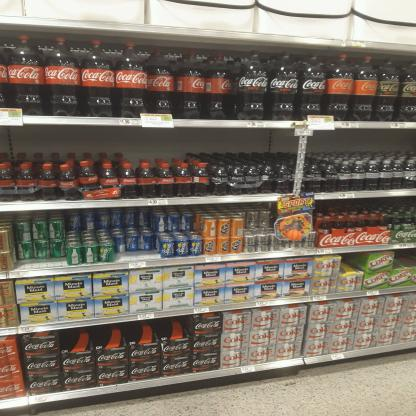Void: (0, 127, 296, 156), (314, 131, 412, 152), (60, 320, 190, 331), (122, 250, 162, 259), (344, 254, 362, 271), (396, 251, 412, 266), (22, 262, 60, 265)
